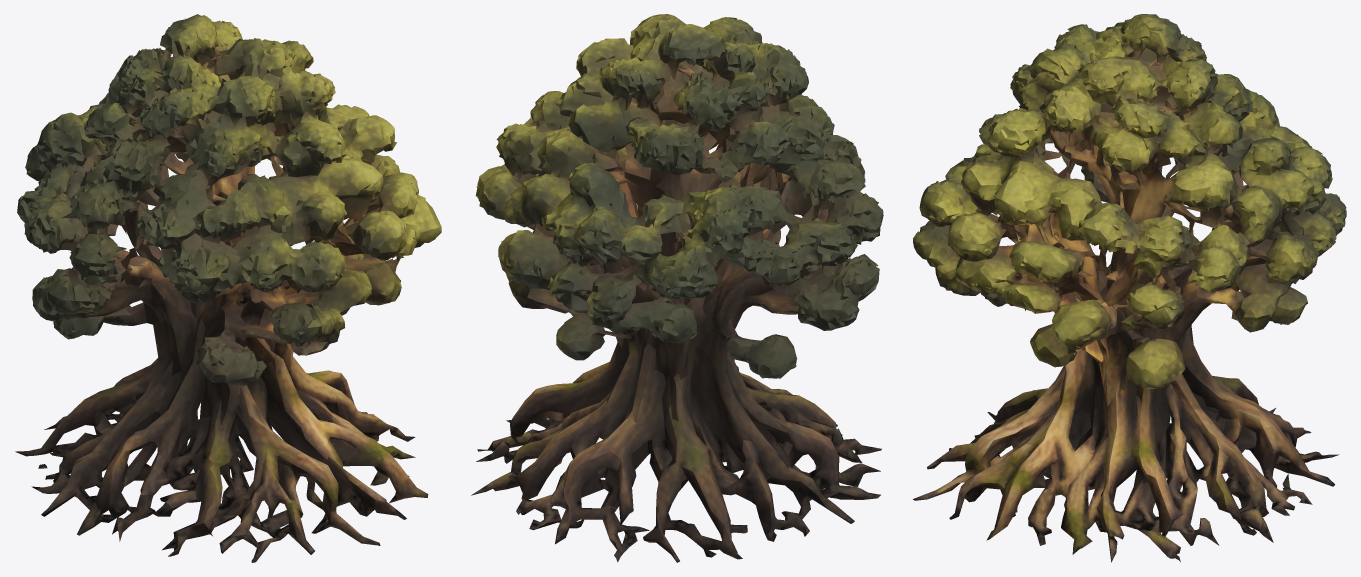
Rendered from central_tree_inner.glb.
The picture shows the model from 3 angles, left to right: view 1: azimuth 30°, elevation 25°; view 2: azimuth 150°, elevation 25°; view 3: azimuth 270°, elevation 25°; orthographic projection. The views are drawn at different scales.
Parts seen in each view (by area): view 1: branches_upper, root_center, trunk, root_fear_secondary, root_fear_main, root_attachment_secondary, root_attachment_main; view 2: branches_upper, trunk, root_fear_secondary, root_center, root_fear_main, root_background_01, root_attachment_secondary, root_attachment_main; view 3: branches_upper, root_attachment_secondary, trunk, root_center, root_attachment_main, root_background_01, root_fear_secondary.
Part boxes in pixels (box(x1,y1,x2,y2)): branches_upper: box(17, 14, 441, 375); root_center: box(137, 297, 380, 554); trunk: box(89, 134, 392, 371); root_fear_secondary: box(44, 300, 270, 562); root_fear_main: box(15, 316, 182, 556); root_attachment_secondary: box(287, 300, 406, 519); root_attachment_main: box(327, 370, 428, 498); branches_upper: box(475, 14, 883, 355); trunk: box(509, 133, 808, 360); root_fear_secondary: box(643, 273, 859, 562); root_center: box(579, 316, 792, 468); root_fear_main: box(721, 345, 881, 559); root_background_01: box(534, 346, 676, 562); root_attachment_secondary: box(493, 331, 623, 529); root_attachment_main: box(471, 273, 574, 495); branches_upper: box(928, 14, 1332, 383); root_attachment_secondary: box(949, 328, 1312, 525); trunk: box(913, 154, 1346, 337); root_center: box(913, 290, 1221, 500); root_attachment_main: box(986, 354, 1273, 562); root_background_01: box(1208, 315, 1339, 498); root_fear_secondary: box(949, 265, 1311, 450).
Size of the model in its own units: 24.96 by 30 by 25.71.
Materials: 1 (1 with a texture image).
